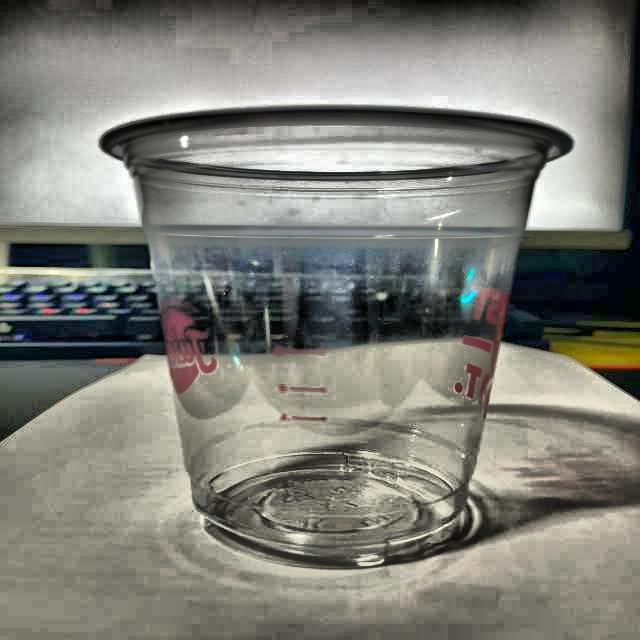plastic cup: (95, 101, 581, 567)
